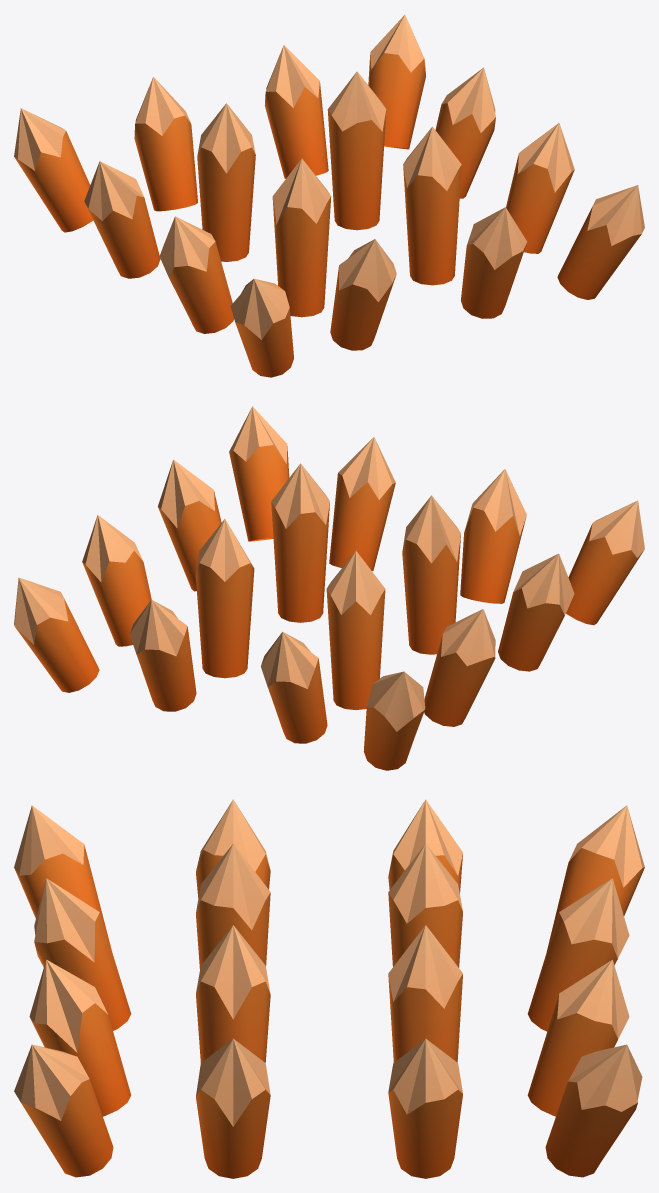
Rendered from Obstacle_Wooden_Spike_01.fbx.
3 views of the same model, one above another, from view 1: azimuth 30°, elevation 25°; view 2: azimuth 150°, elevation 25°; view 3: azimuth 270°, elevation 25° (orthographic). The views are drawn at different scales.
Parts seen in each view (by area): view 1: Obstacle_Wooden_Spike_01; view 2: Obstacle_Wooden_Spike_01; view 3: Obstacle_Wooden_Spike_01.
Part boxes in pixels (x1,y1,x2,y2): Obstacle_Wooden_Spike_01: [14, 15, 644, 377]; Obstacle_Wooden_Spike_01: [14, 406, 644, 770]; Obstacle_Wooden_Spike_01: [14, 799, 644, 1178].
Size of the model in its own units: 179 by 62.85 by 188.
